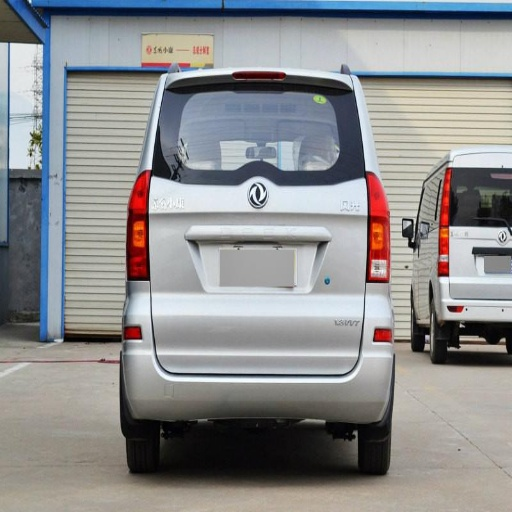back_bumper: (121, 283, 396, 422)
tailgate: (160, 179, 357, 289)
trunk: (142, 179, 370, 371)
